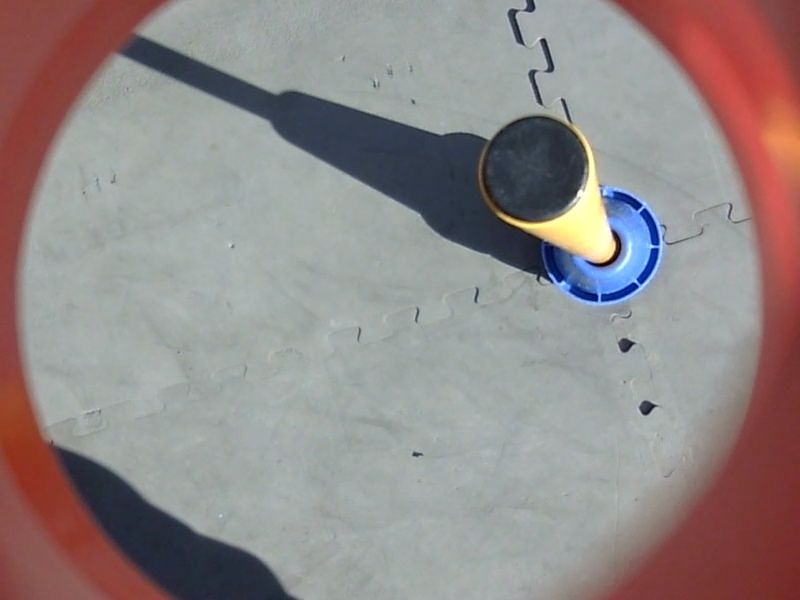tip: (472, 111, 596, 233)
